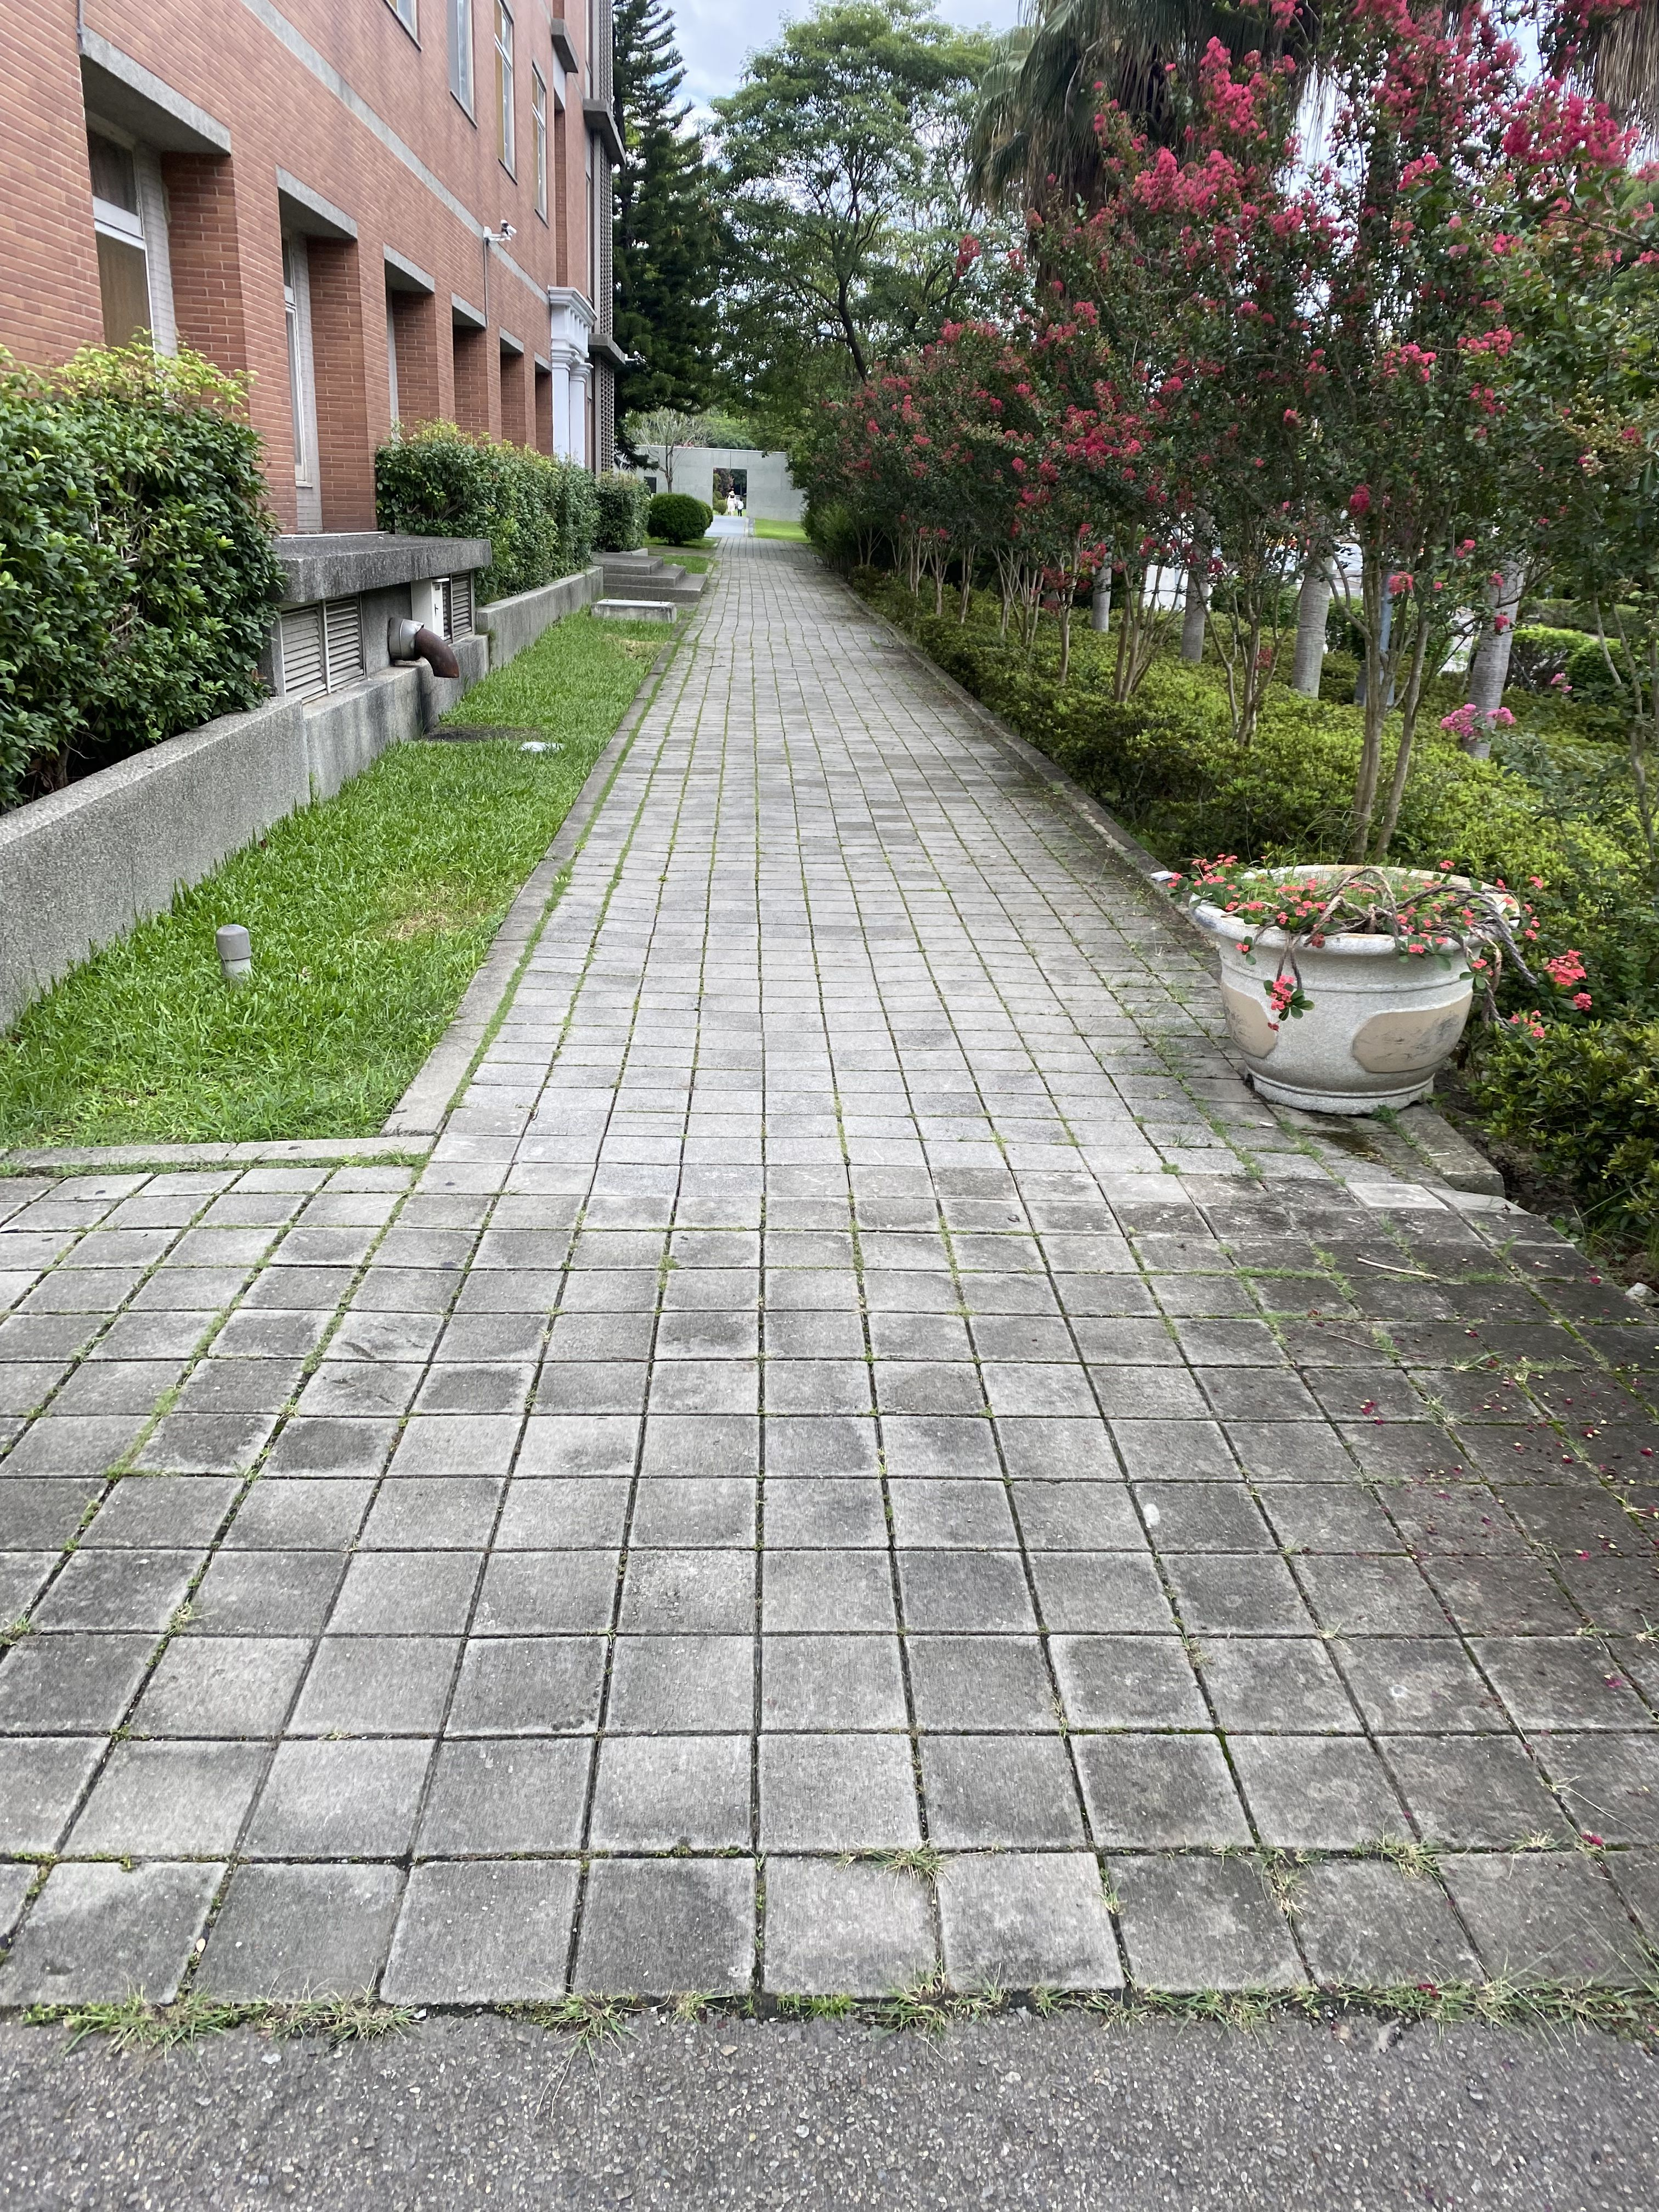sidewalk: (354, 428, 1659, 2156)
